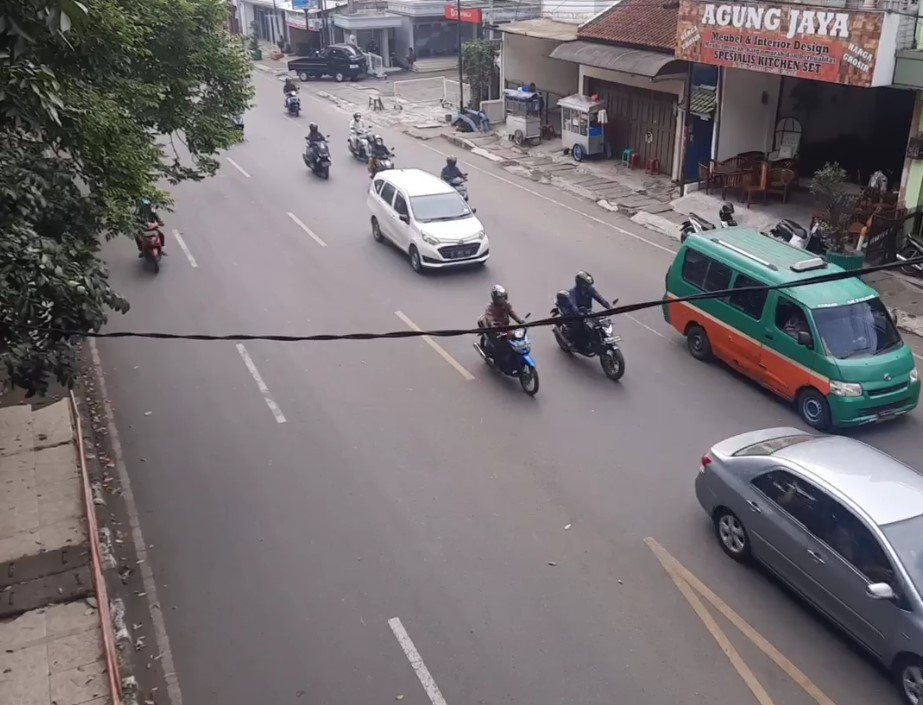mobil: (802, 292, 921, 429), (402, 191, 488, 271)
motor: (550, 267, 630, 387), (473, 284, 540, 397), (132, 198, 167, 279), (301, 125, 333, 182)
